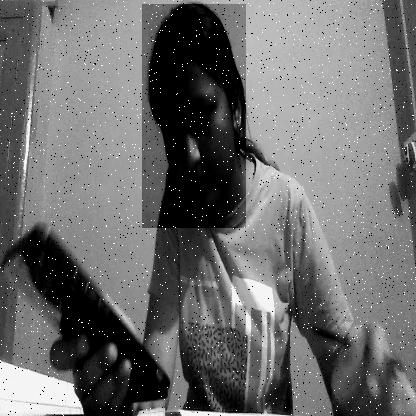Distracted: (142, 4, 246, 228)
